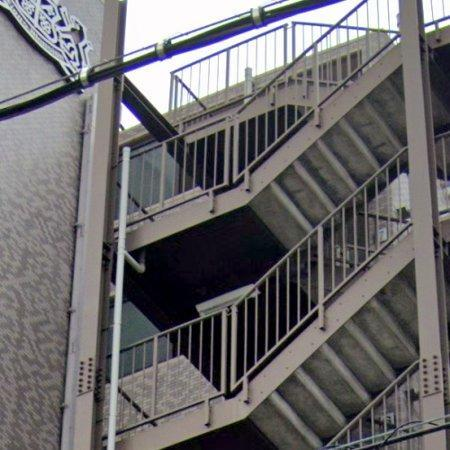stairs: (237, 265, 419, 450), (250, 69, 407, 248)
